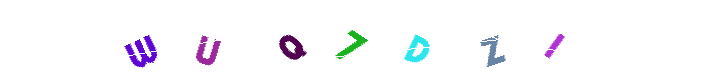7: (313, 0, 393, 80)
D: (319, 0, 399, 80)
I: (377, 0, 457, 80)
Q: (259, 0, 339, 80)
U: (251, 0, 331, 80)
W: (102, 0, 182, 80)
Z: (368, 0, 448, 80)
